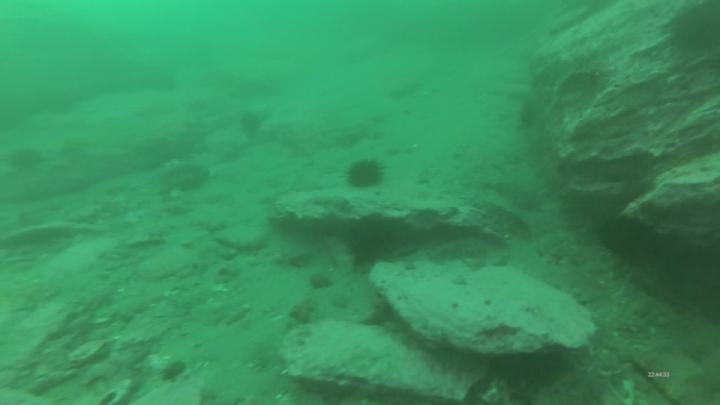echinus: (667, 1, 720, 60), (342, 211, 395, 266), (345, 157, 387, 193), (2, 147, 49, 172), (239, 112, 264, 142)
